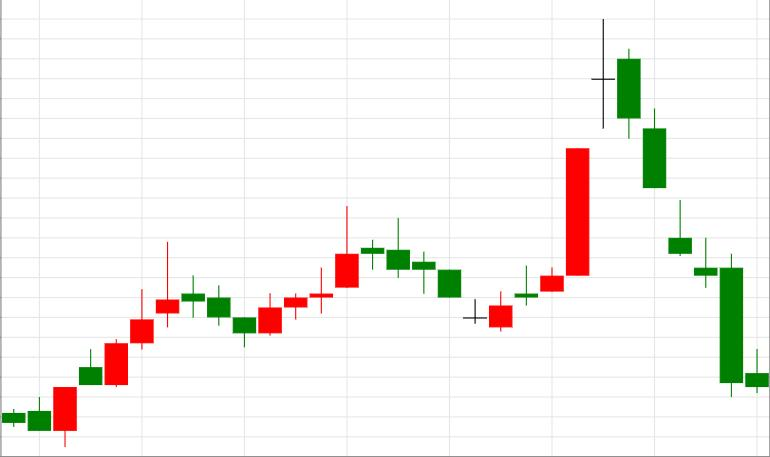shooting_star_fall: (53, 241, 180, 447), (259, 206, 359, 336)
